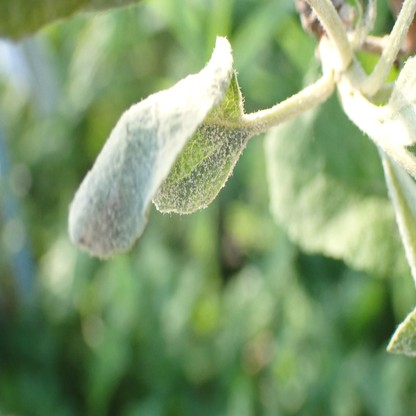powder: (69, 35, 245, 258), (384, 57, 416, 146), (386, 309, 416, 357)
